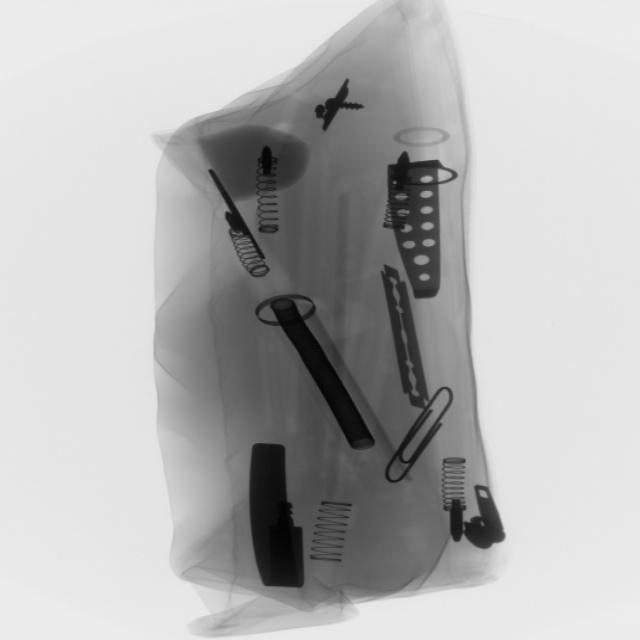BLADE: (378, 257, 435, 417)
